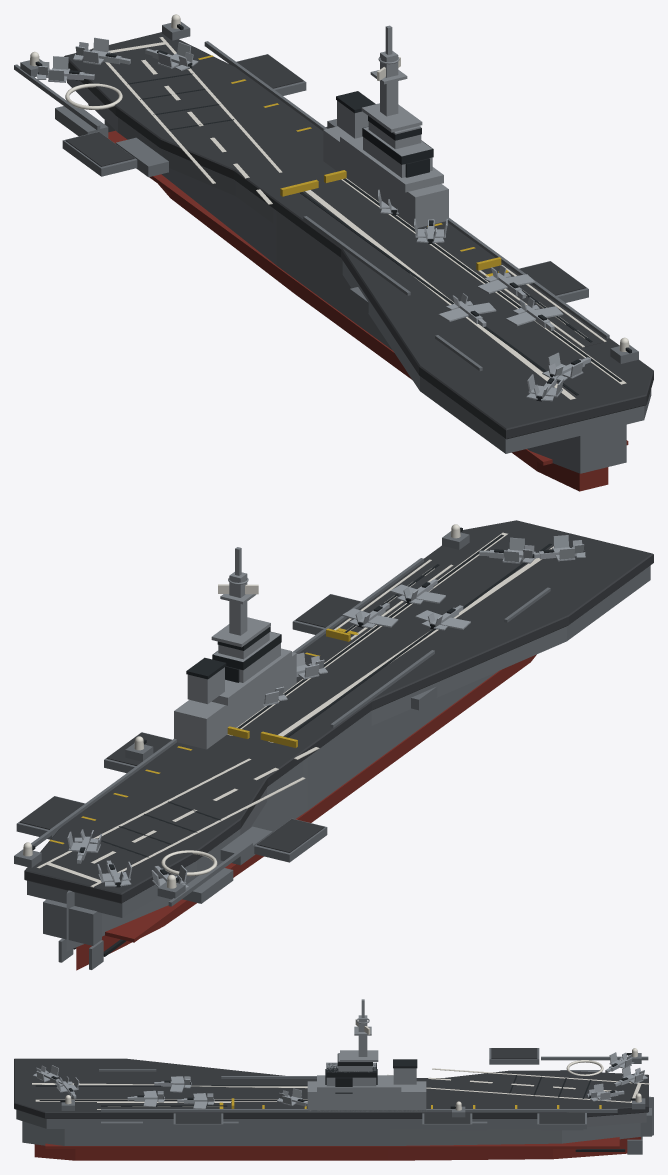
Rendered from aircraft-carrier.glb.
3 views of the same model, one above another, from view 1: azimuth 30°, elevation 25°; view 2: azimuth 150°, elevation 25°; view 3: azimuth 270°, elevation 25° (orthographic). The views are drawn at different scales.
Parts seen in each view (by area): view 1: flight_deck, hull_body, hangar_deck_band, island_base, hull_keel, hull_waterline_stripe, deck_edge_stbd, island_gallery, catapult_2_track, elevator_deck_4, elevator_deck_3, elevator_deck_1 (+13 smaller); view 2: flight_deck, hull_body, hangar_deck_band, island_base, hull_keel, hull_waterline_stripe, stern_transom, deck_edge_stbd, elevator_deck_4, catapult_2_track, elevator_deck_3, elevator_deck_1 (+14 smaller); view 3: flight_deck, hull_body, hull_keel, hangar_deck_band, island_base, hull_waterline_stripe, deck_edge_stbd, island_gallery, strip_surface, elevator_deck_1, elevator_deck_3, elevator_deck_4 (+19 smaller).
Boxes of the visible parts, left/top/right/bottom form: flight_deck: left=64, top=32, right=653, bottom=439; hull_body: left=161, top=168, right=626, bottom=473; hangar_deck_band: left=67, top=79, right=651, bottom=453; island_base: left=323, top=126, right=448, bottom=227; hull_keel: left=158, top=184, right=608, bottom=491; hull_waterline_stripe: left=108, top=130, right=628, bottom=465; deck_edge_stbd: left=204, top=41, right=609, bottom=338; island_gallery: left=340, top=134, right=443, bottom=192; catapult_2_track: left=305, top=190, right=575, bottom=399; elevator_deck_4: left=65, top=132, right=134, bottom=166; elevator_deck_3: left=237, top=54, right=303, bottom=88; elevator_deck_1: left=519, top=261, right=586, bottom=295; flight_deck: left=24, top=520, right=653, bottom=903; hull_body: left=66, top=671, right=498, bottom=950; hangar_deck_band: left=27, top=565, right=650, bottom=917; island_base: left=174, top=652, right=296, bottom=749; hull_keel: left=76, top=654, right=536, bottom=970; hull_waterline_stripe: left=105, top=664, right=514, bottom=942; stern_transom: left=43, top=899, right=101, bottom=945; deck_edge_stbd: left=31, top=558, right=423, bottom=846; elevator_deck_4: left=257, top=819, right=324, bottom=852; catapult_2_track: left=268, top=546, right=553, bottom=742; elevator_deck_3: left=19, top=796, right=84, bottom=829; elevator_deck_1: left=295, top=594, right=360, bottom=627; flight_deck: left=14, top=1058, right=648, bottom=1118; hull_body: left=22, top=1096, right=653, bottom=1145; hull_keel: left=34, top=1137, right=640, bottom=1160; hangar_deck_band: left=16, top=1110, right=646, bottom=1128; island_base: left=307, top=1081, right=426, bottom=1111; hull_waterline_stripe: left=45, top=1137, right=619, bottom=1148; deck_edge_stbd: left=101, top=1109, right=617, bottom=1112; island_gallery: left=317, top=1075, right=401, bottom=1092; strip_surface: left=97, top=1103, right=230, bottom=1108; elevator_deck_1: left=175, top=1112, right=221, bottom=1123; elevator_deck_3: left=539, top=1112, right=584, bottom=1123; elevator_deck_4: left=491, top=1048, right=537, bottom=1058.
Bounding box in the file's own units: 94 × 97.2 × 334.
